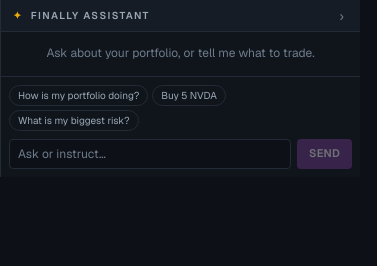
ChatPanel round trip › shows a notice instead of crashing when the assistant errors
Step 1. Type "hello" into the field named "Message the AI assistant" → (150, 154), box [9, 138, 291, 168]
Then press Enter
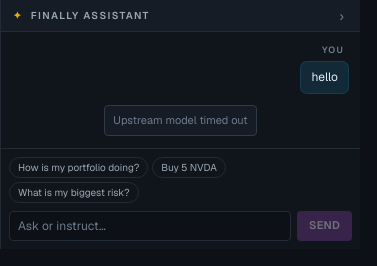
Expected: the field named "Message the AI assistant" is enabled, [9, 210, 291, 240]
Expected: the text "Upstream model timed out" is shown, [104, 105, 257, 136]
